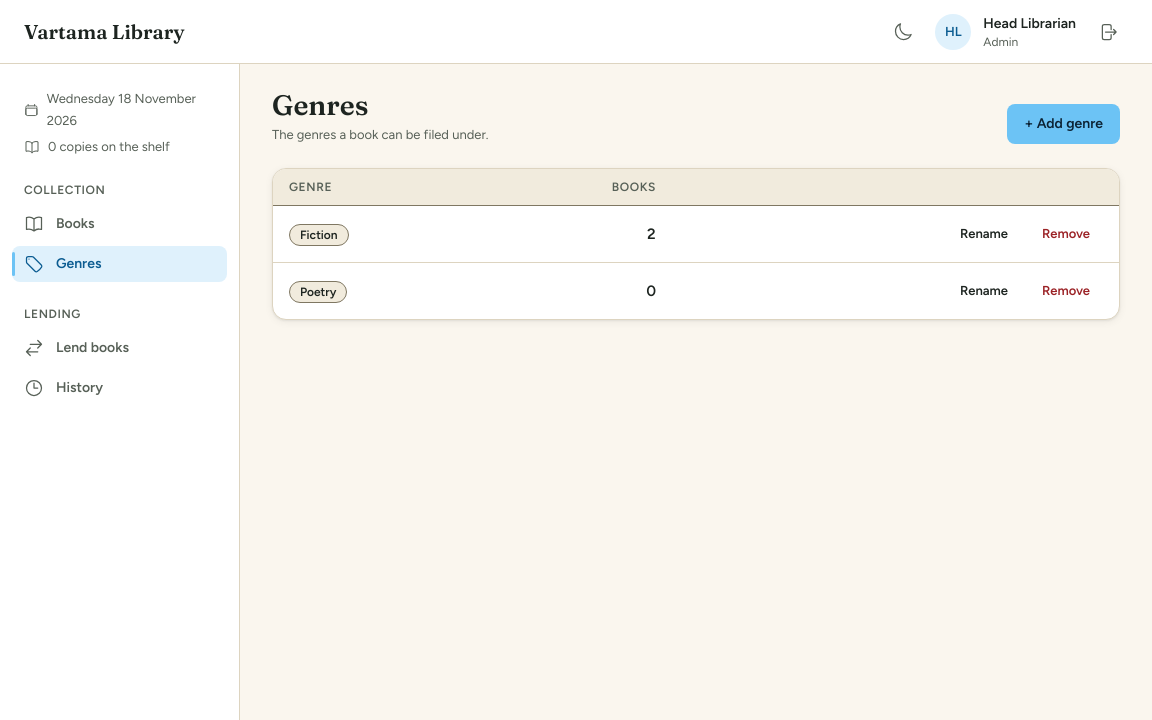
it: Genres page (admin) › removes an unused genre after confirmation
Check: the text "Fiction" is shown, box [289,224,349,246]
What coordinates should you click on to do the following:
click the button with aria-label "Remove Poetry"
I would click on:
 (1066, 291)
Its box is [1029,275,1103,307].
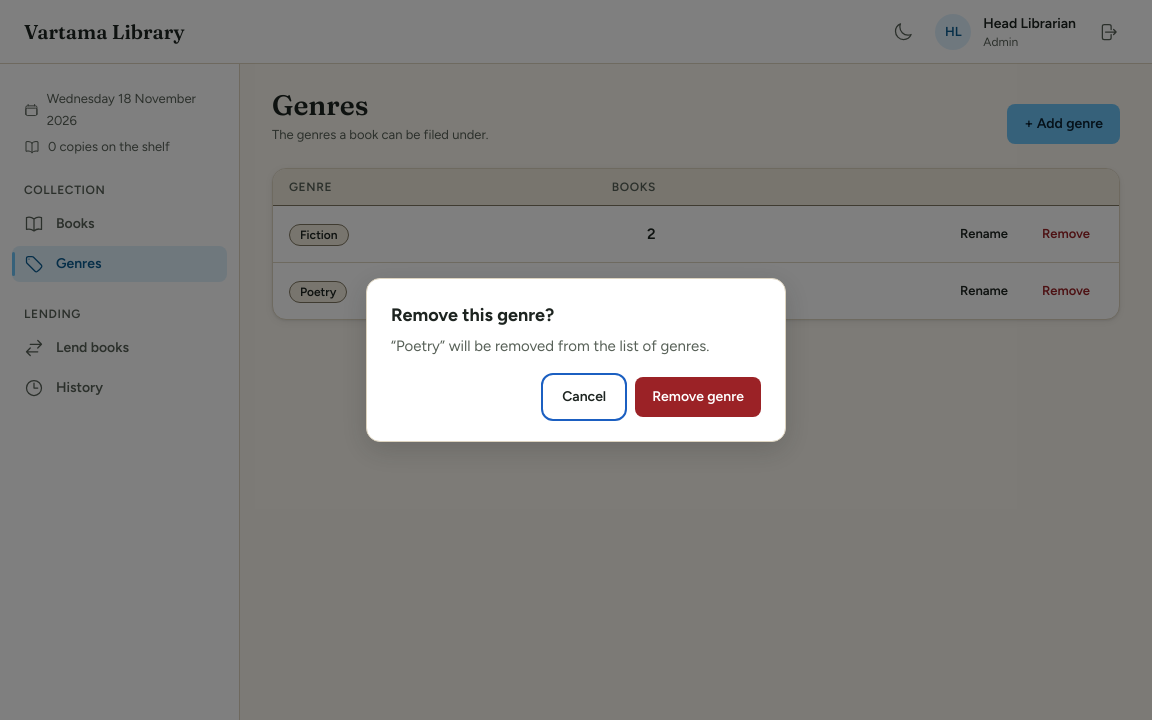
What coordinates should you click on to do the following:
click the button "Remove genre"
I would click on:
 (698, 397)
Its box is [635,377,761,417].
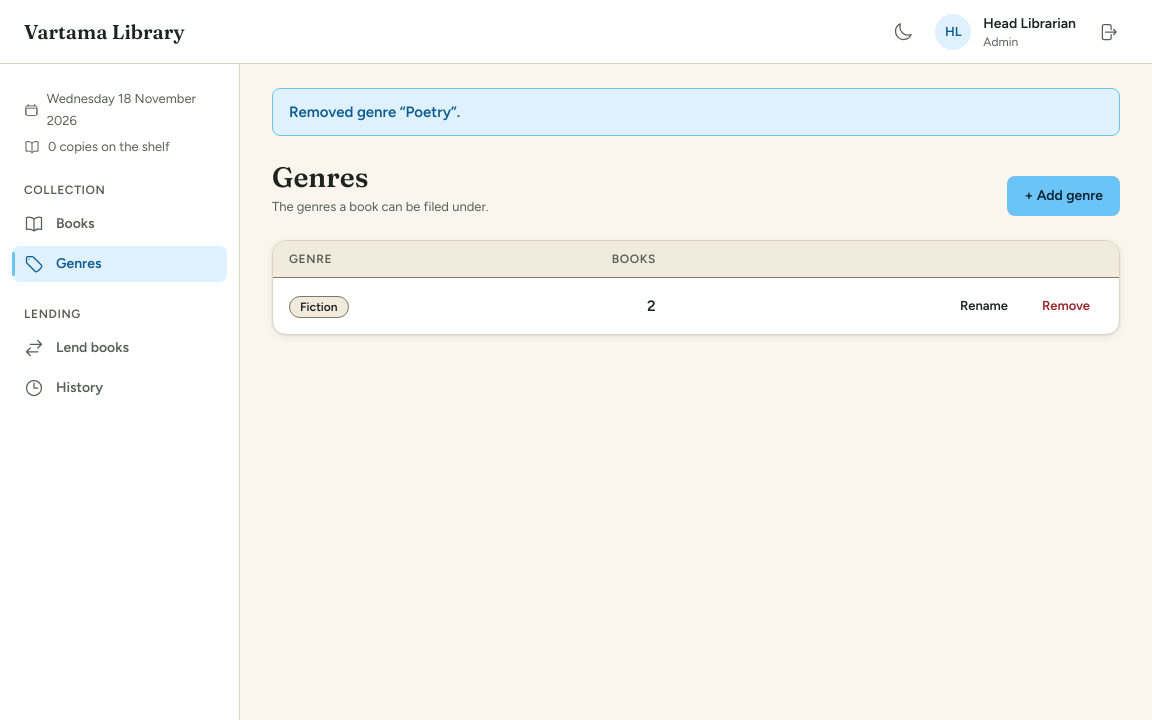
Check: the message reads "Removed genre “Poetry”.", box [289,103,460,121]
